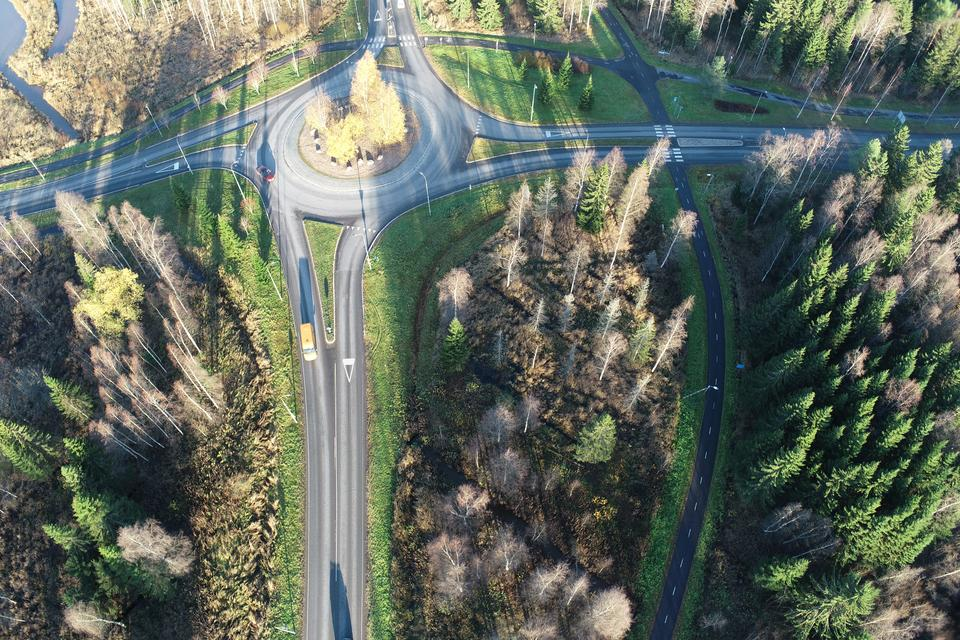intersection: (638, 107, 709, 187), (346, 28, 434, 56)
roundabout: (221, 65, 530, 277)
